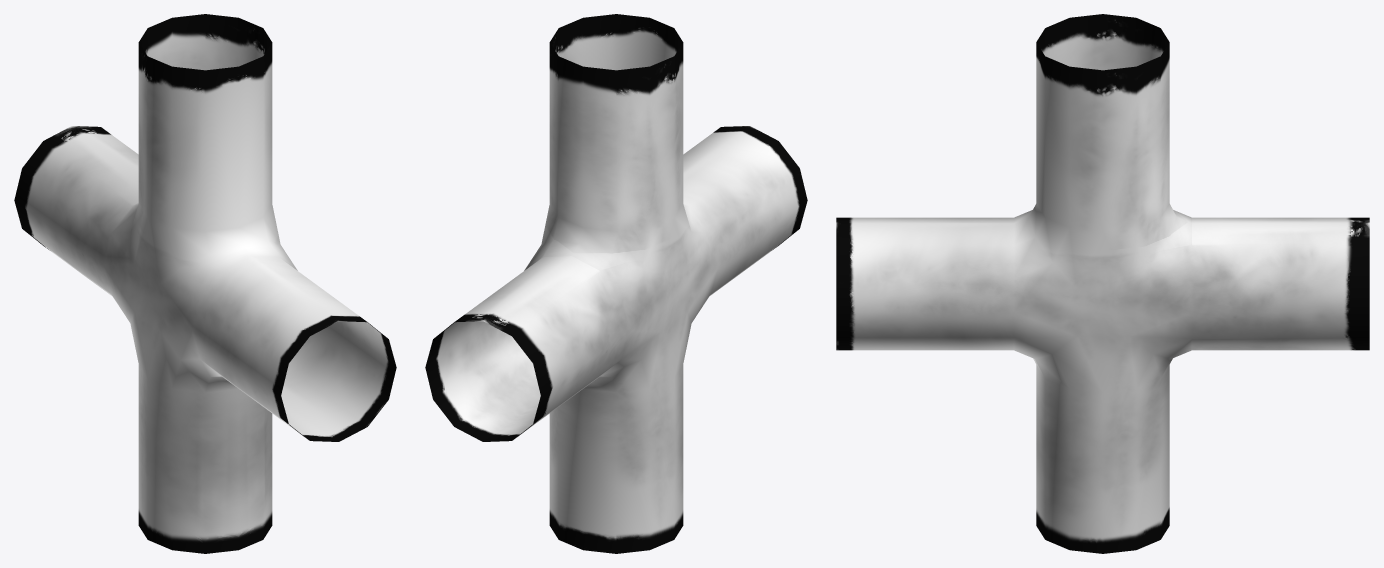
Rendered from Pipe-X.fbx.
3 views of the same model, side by side, from view 1: azimuth 30°, elevation 25°; view 2: azimuth 150°, elevation 25°; view 3: azimuth 270°, elevation 25° (orthographic).
Visible parts, largest first — view 1: Pipe-X; view 2: Pipe-X; view 3: Pipe-X.
Part boxes in pixels (bbox=[...]): Pipe-X: bbox=[14, 14, 396, 553]; Pipe-X: bbox=[425, 14, 807, 553]; Pipe-X: bbox=[836, 14, 1369, 553].
Size of the model in its own units: 50 by 200 by 200.
1 material, 1 textured.
